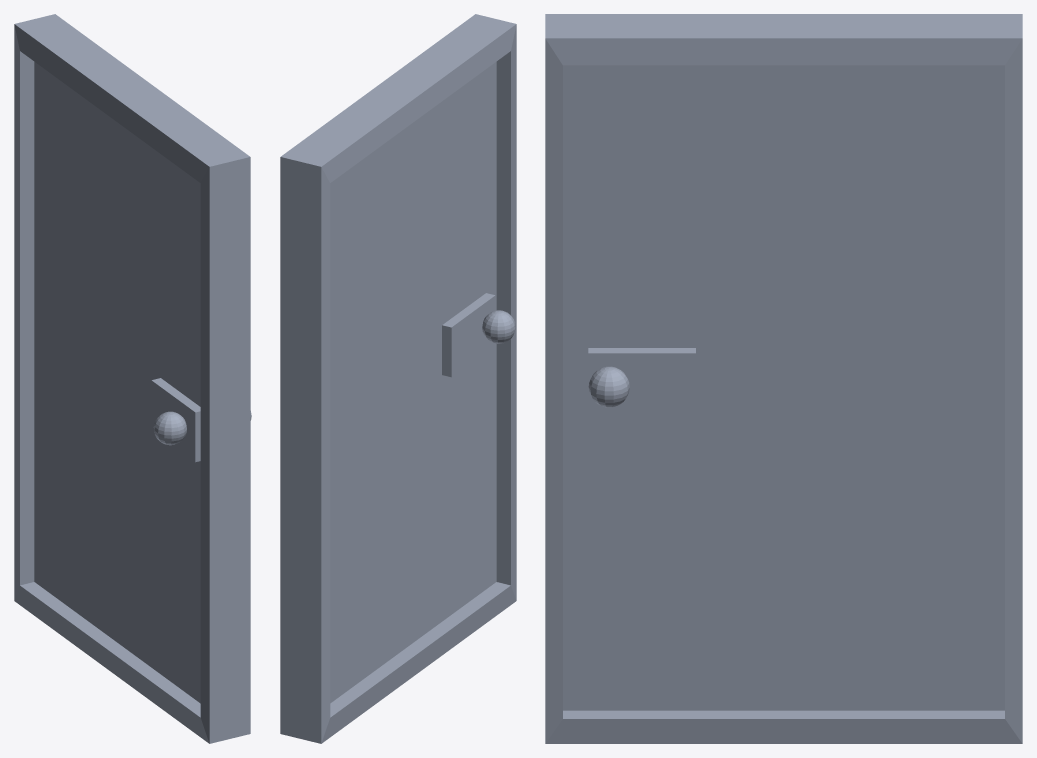
The model's file is f_door.fbx.
3 renders of one model, left to right at view 1: azimuth 30°, elevation 25°; view 2: azimuth 150°, elevation 25°; view 3: azimuth 270°, elevation 25°, orthographic. The views are drawn at different scales.
Parts seen in each view (by area): view 1: f_door; view 2: f_door; view 3: f_door.
Boxes of the visible parts, x1,y1,x2,y2 form: f_door: (14,14,251,743); f_door: (280,14,516,743); f_door: (545,14,1022,743).
Size of the model in its own units: 35.29 by 214 by 131.
